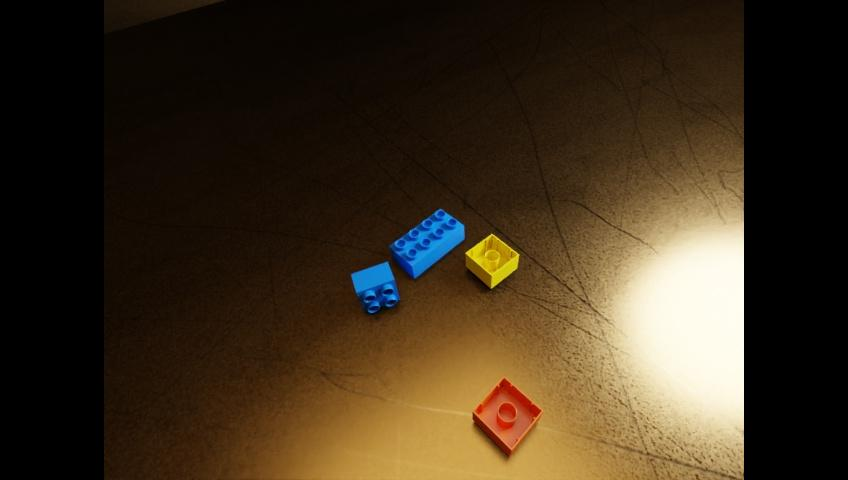2x2_blue: (351, 261, 399, 312)
2x2_orange: (472, 375, 542, 456)
2x2_yellow: (466, 233, 518, 288)
4x2_blue: (389, 209, 463, 278)
